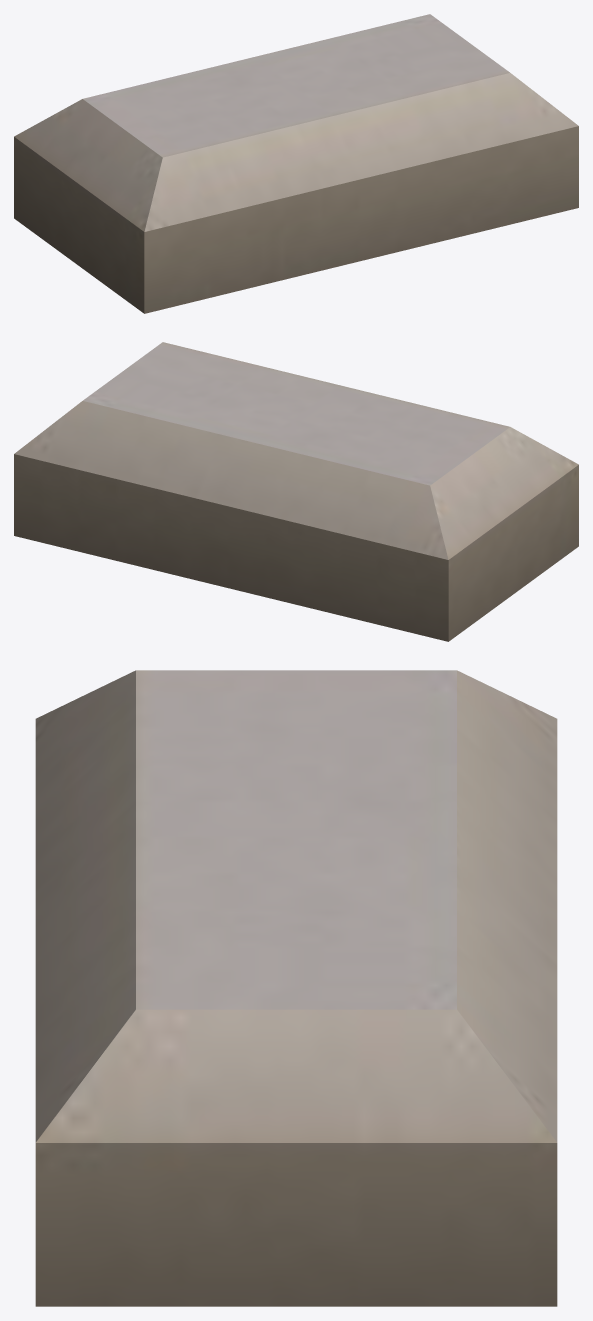
Rendered from bioplastic.glb.
3 renders of one model, top to bottom at view 1: azimuth 30°, elevation 25°; view 2: azimuth 150°, elevation 25°; view 3: azimuth 270°, elevation 25°, orthographic. The views are drawn at different scales.
Parts seen in each view (by area): view 1: bioplastic; view 2: bioplastic; view 3: bioplastic.
Part boxes in pixels (x1=…): bioplastic: x1=14, y1=14, x2=578, y2=313; bioplastic: x1=14, y1=342, x2=578, y2=641; bioplastic: x1=35, y1=670, x2=557, y2=1306.
Size of the model in its own units: 0.25 by 0.07 by 0.13.
Materials: 1 (1 with a texture image).
